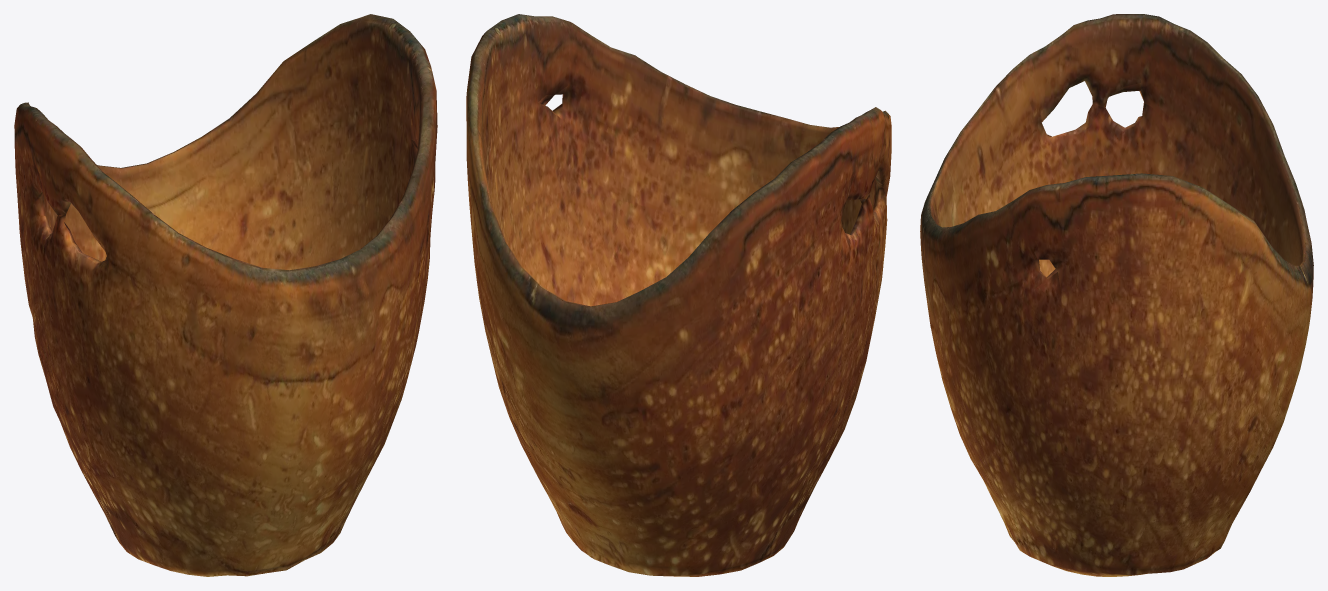
Rendered from bowl_small.glb.
3 views of the same model, side by side, from view 1: azimuth 30°, elevation 25°; view 2: azimuth 150°, elevation 25°; view 3: azimuth 270°, elevation 25° (orthographic). The views are drawn at different scales.
Parts seen in each view (by area): view 1: wooden_bowl_02.001; view 2: wooden_bowl_02.001; view 3: wooden_bowl_02.001.
Part boxes in pixels (box(x1,y1,x2,y2)): wooden_bowl_02.001: box(14, 14, 437, 576); wooden_bowl_02.001: box(466, 14, 891, 576); wooden_bowl_02.001: box(920, 14, 1313, 576).
Size of the model in its own units: 3.03 by 3.6 by 2.88.
1 material, 1 textured.
